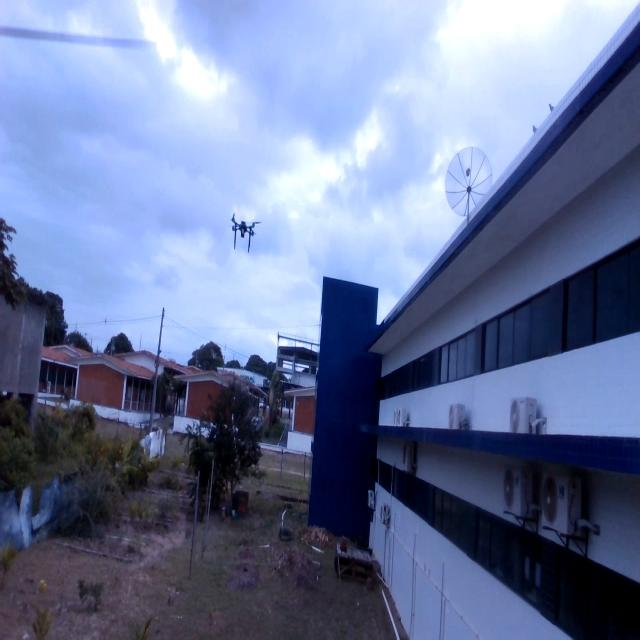-uav-: (222, 203, 262, 264)
